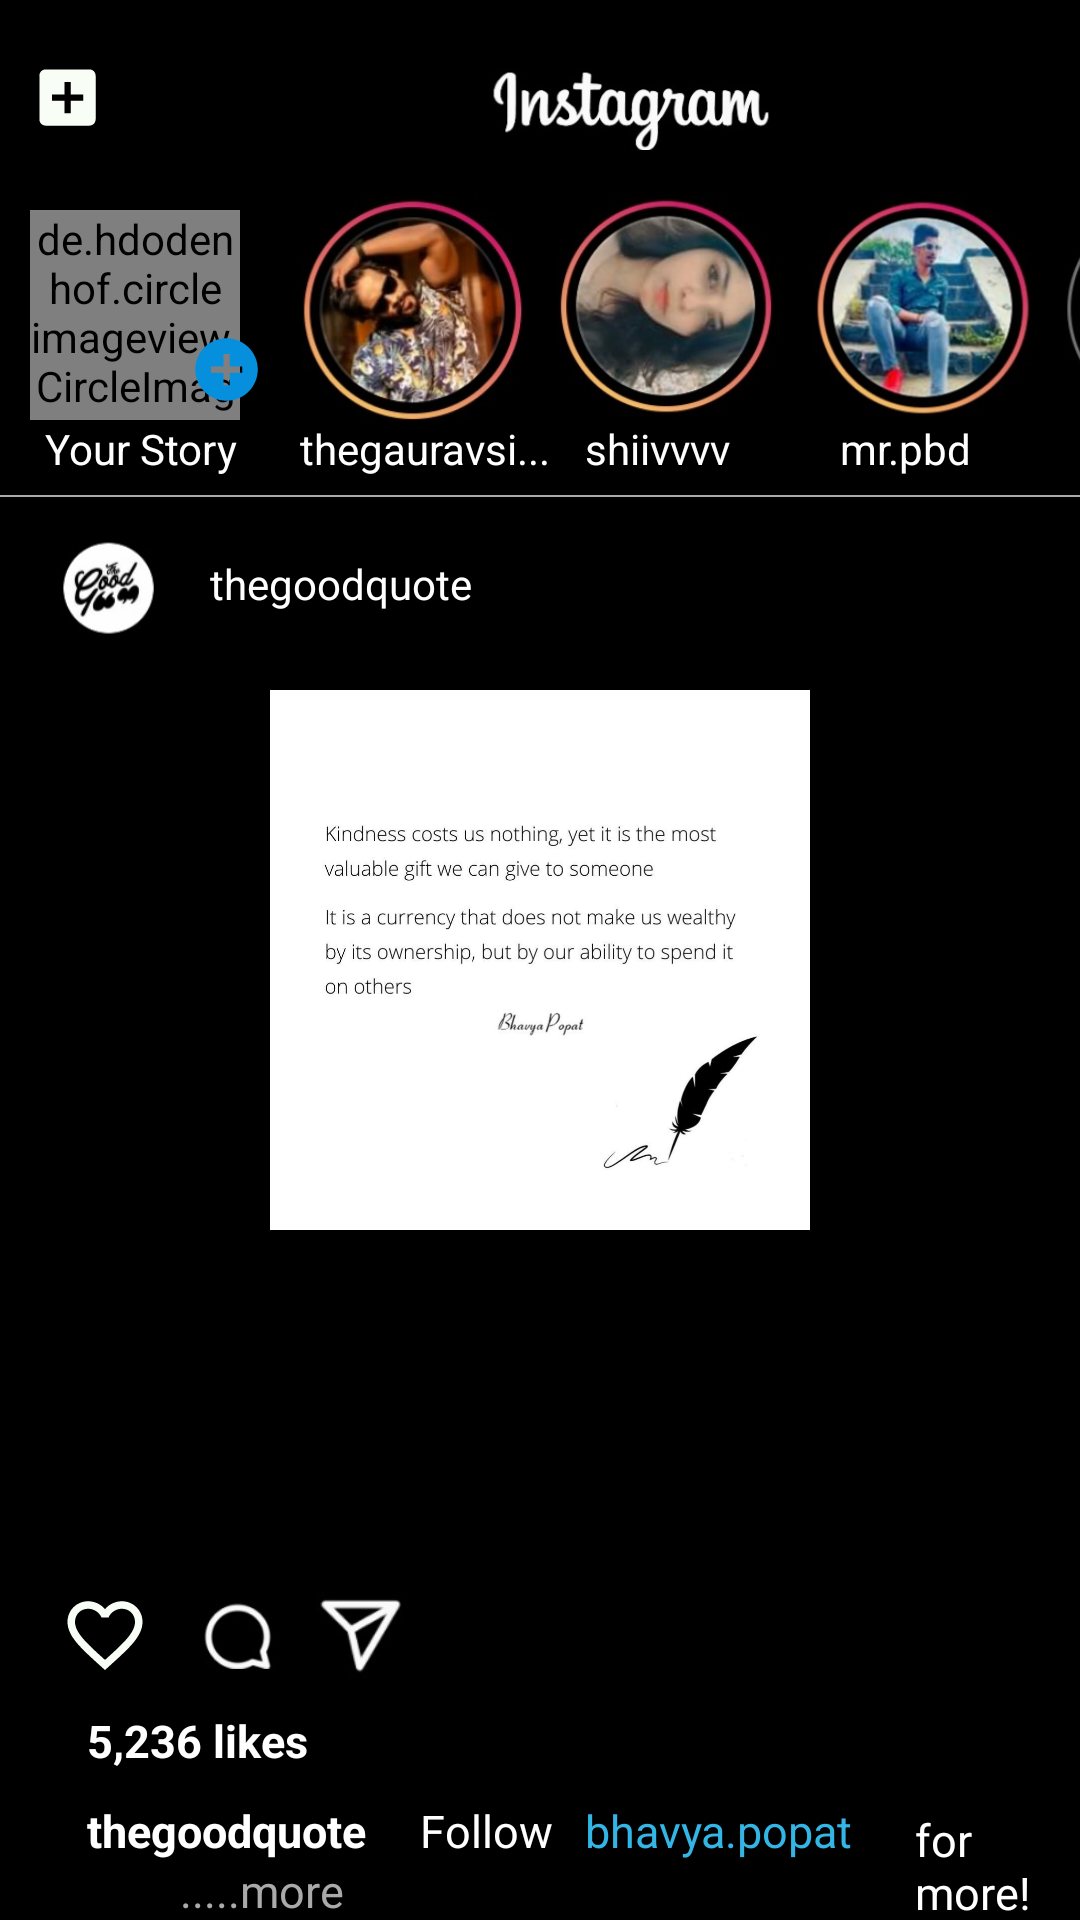

Named icons in this screenshot (1080 × 1920) and their bounding boxes, Rect(x1, y1, x2, y2):
add box: Rect(39, 69, 96, 126)
favorite border: Rect(67, 1601, 143, 1670)
